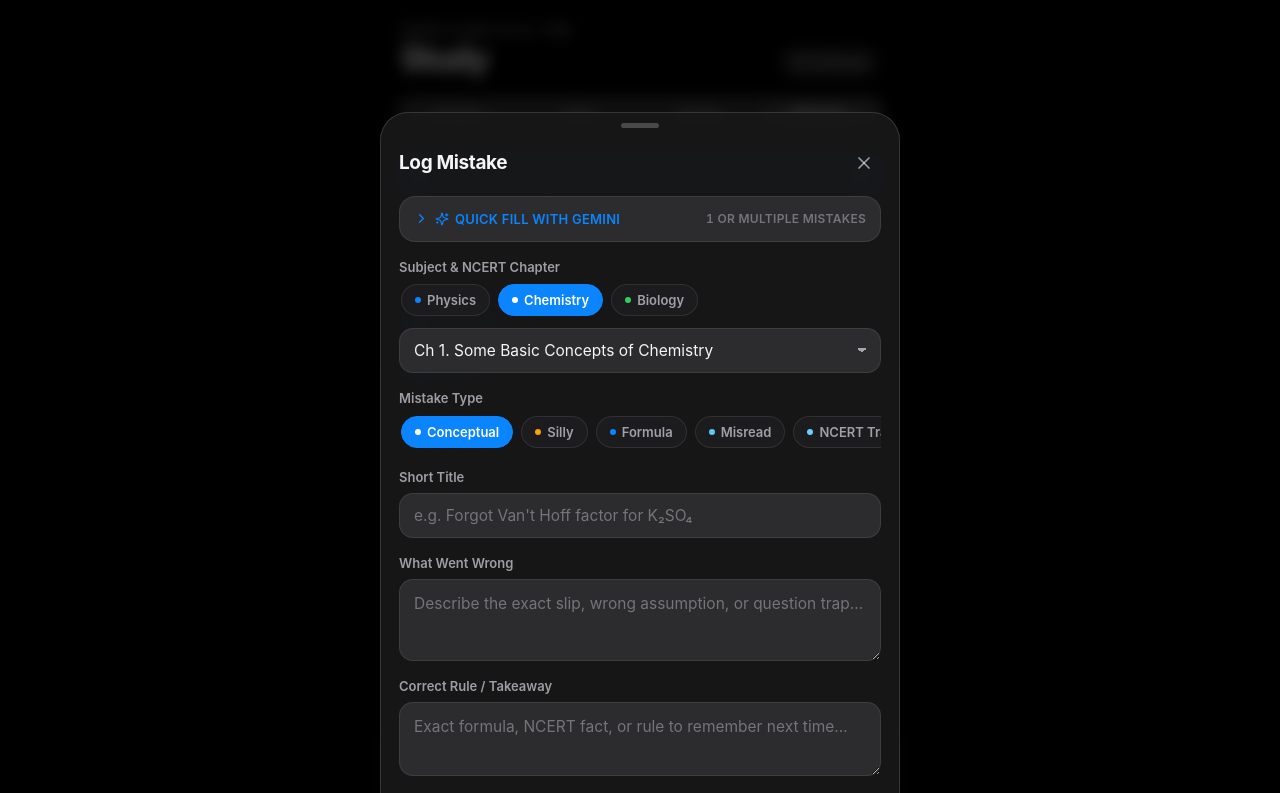
Test: Study Hub, NCERT Chapters, PYQs & Doubts end-to-end flows › displays chapter shortcuts with singular/plural counts in ChapterDetailSheet and navigates cleanly
The image size is (1280, 793).
Earlier steps of the test are not shown.
Later steps or results of the test are not shown.
Select "Ch 1. Solutions" in the dropdown named "NCERT Chapter" at (640, 351), box x1=399 y1=328 x2=881 y2=373
Type "Forgot Van’t Hoff factor" into the field labelled "Short Title" at (640, 516), box x1=399 y1=493 x2=881 y2=538
(page scrolled)
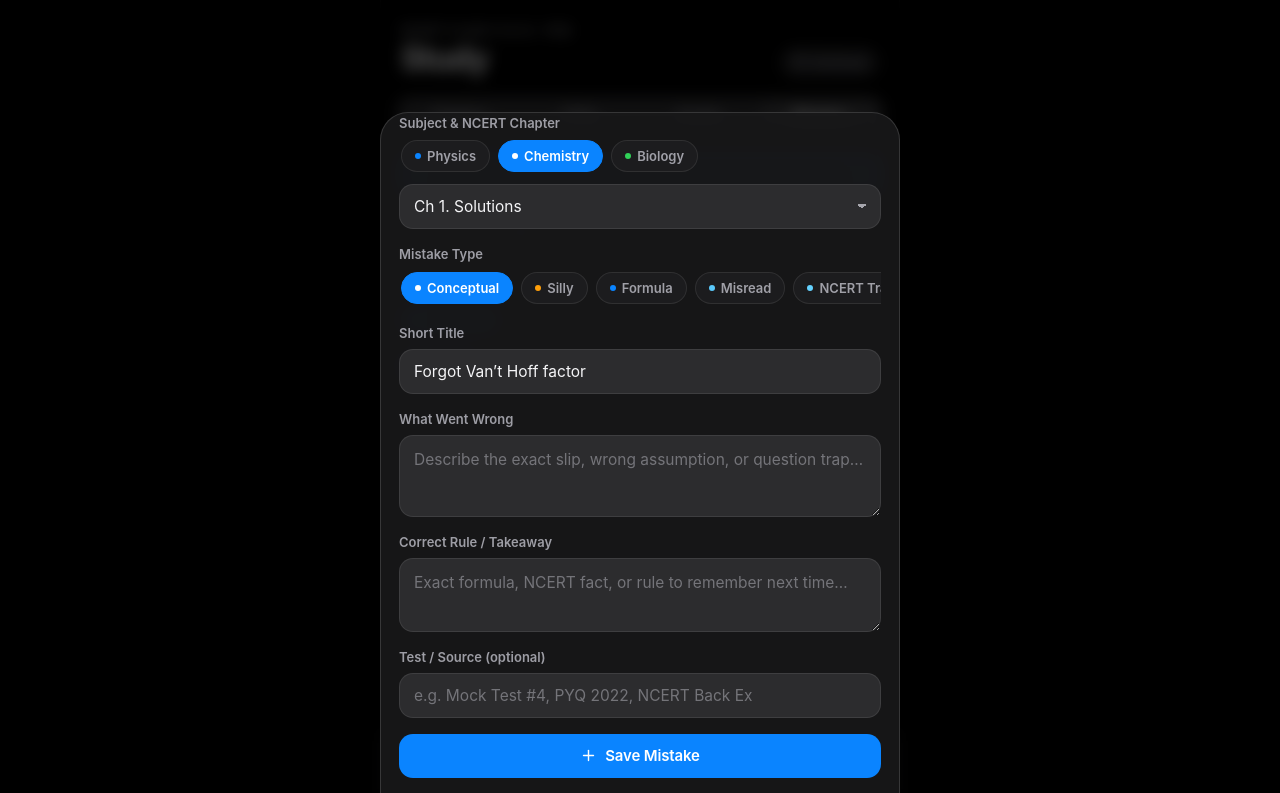
Click the button "Save Mistake" at (640, 756), box x1=399 y1=734 x2=881 y2=778
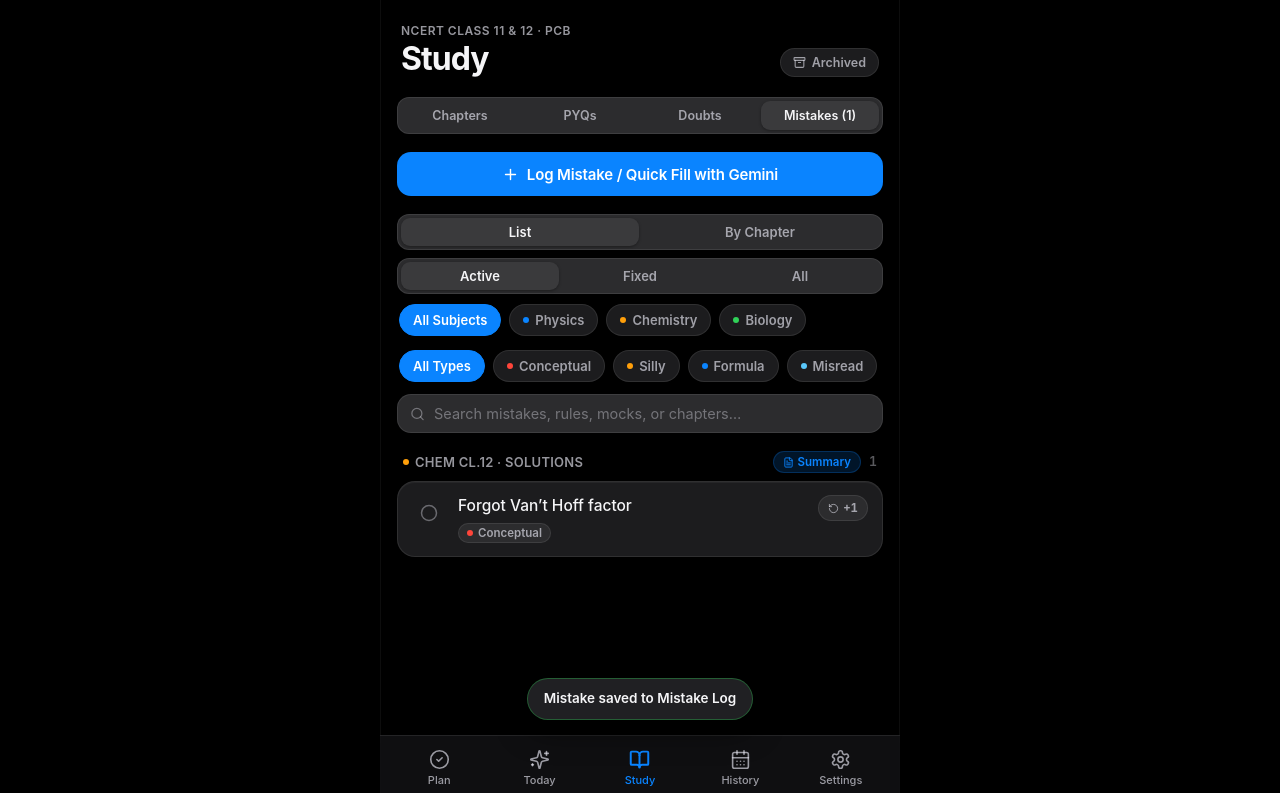
Click the tab "Chapters" at (460, 116), box x1=401 y1=101 x2=519 y2=130
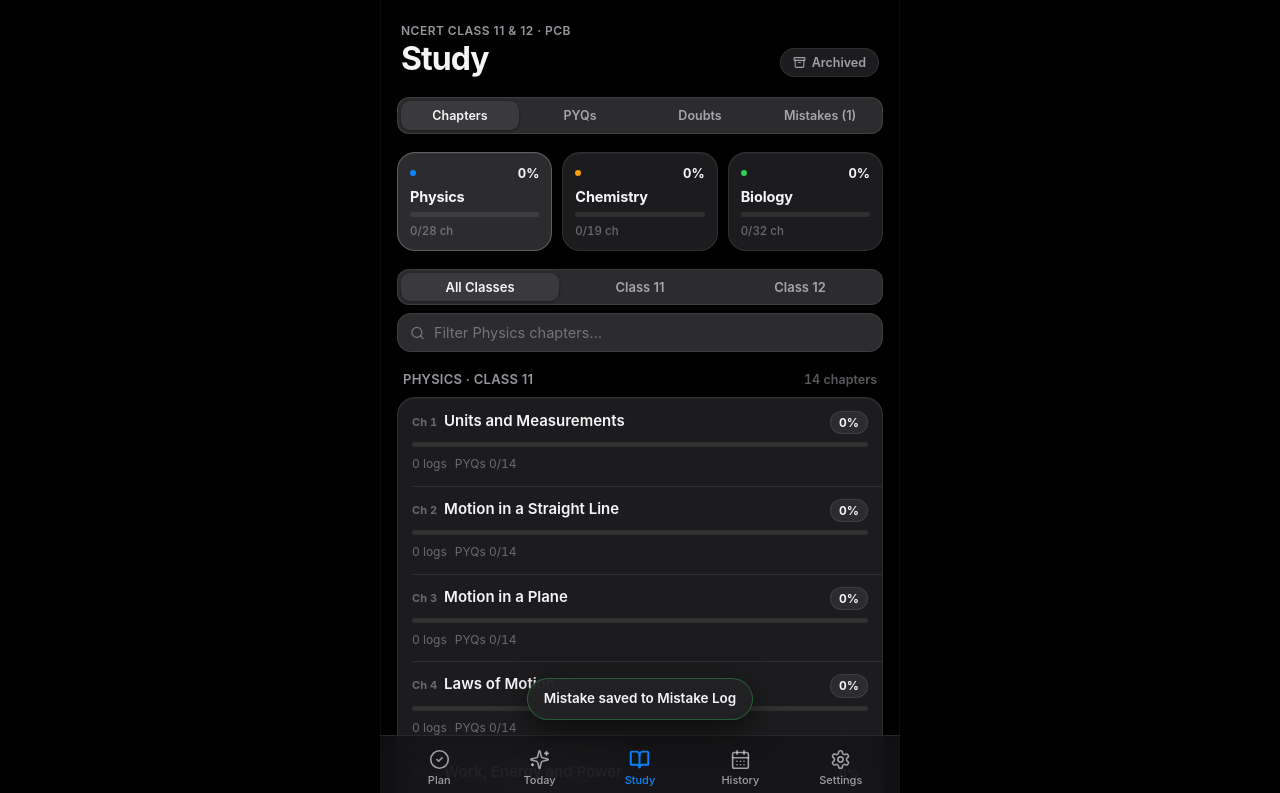
Click the tab "0% Chemistry 0/19 ch" at (640, 202), box x1=562 y1=152 x2=718 y2=251
(page scrolled)
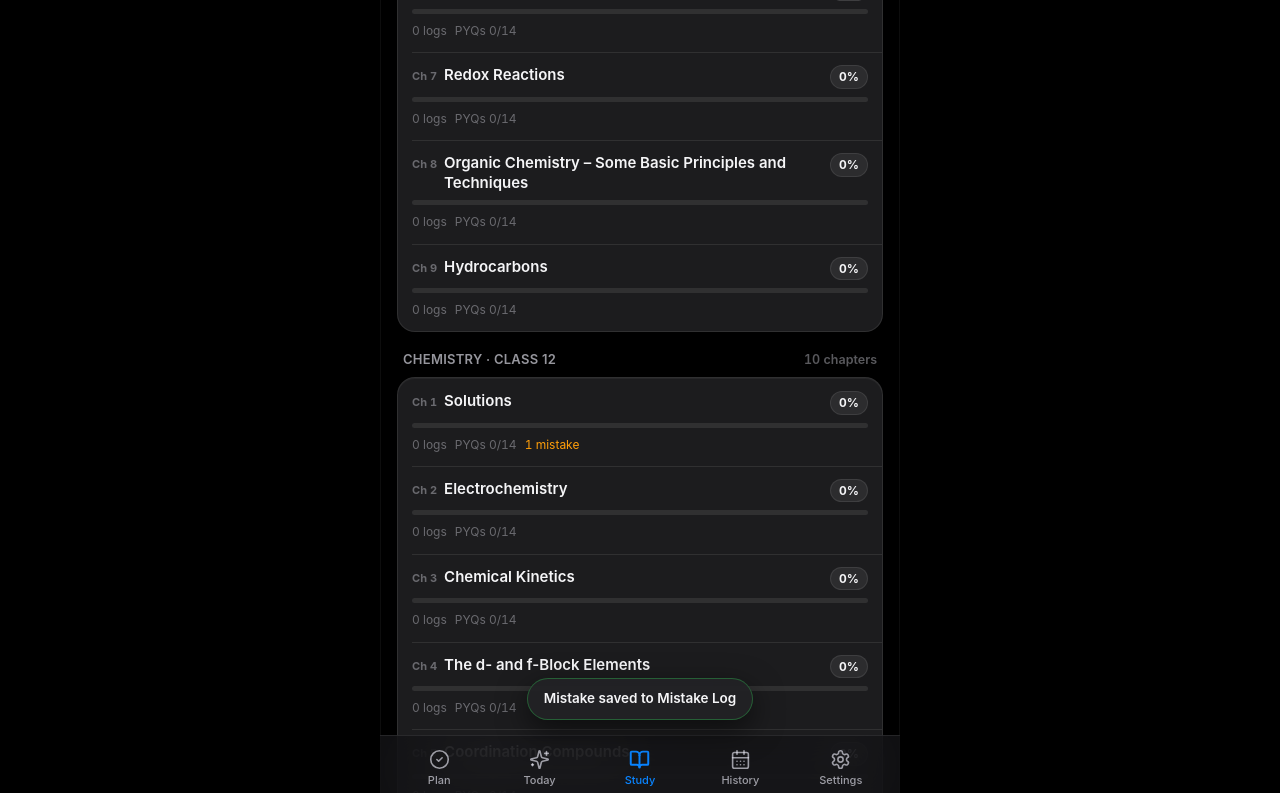
Click the text "Solutions" at (478, 401), box x1=444 y1=391 x2=512 y2=411
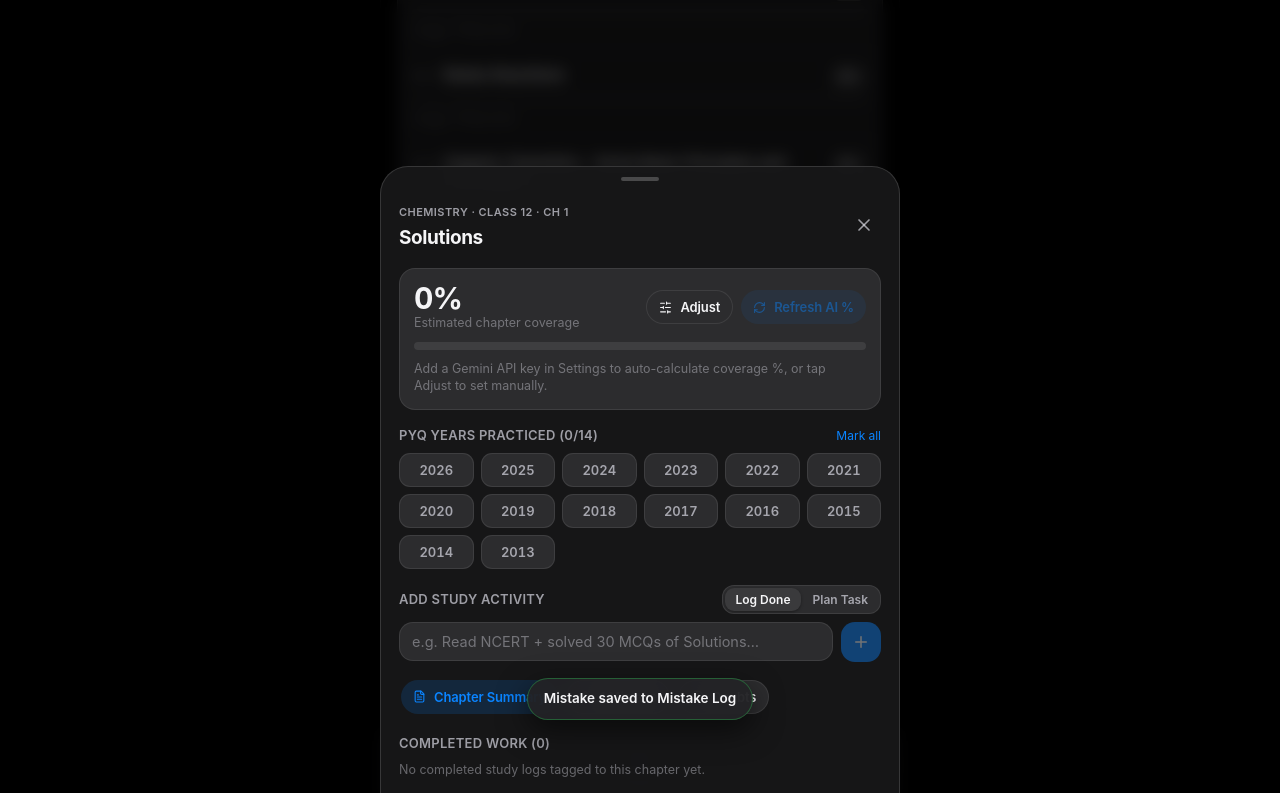
Expected: the button "Chapter Summary" is shown, x1=401 y1=680 x2=558 y2=714
Expected: the button "Doubts" is shown, x1=678 y1=680 x2=769 y2=714
Click the button "1 Mistake" at (618, 697), box x1=566 y1=680 x2=670 y2=714
(page scrolled)
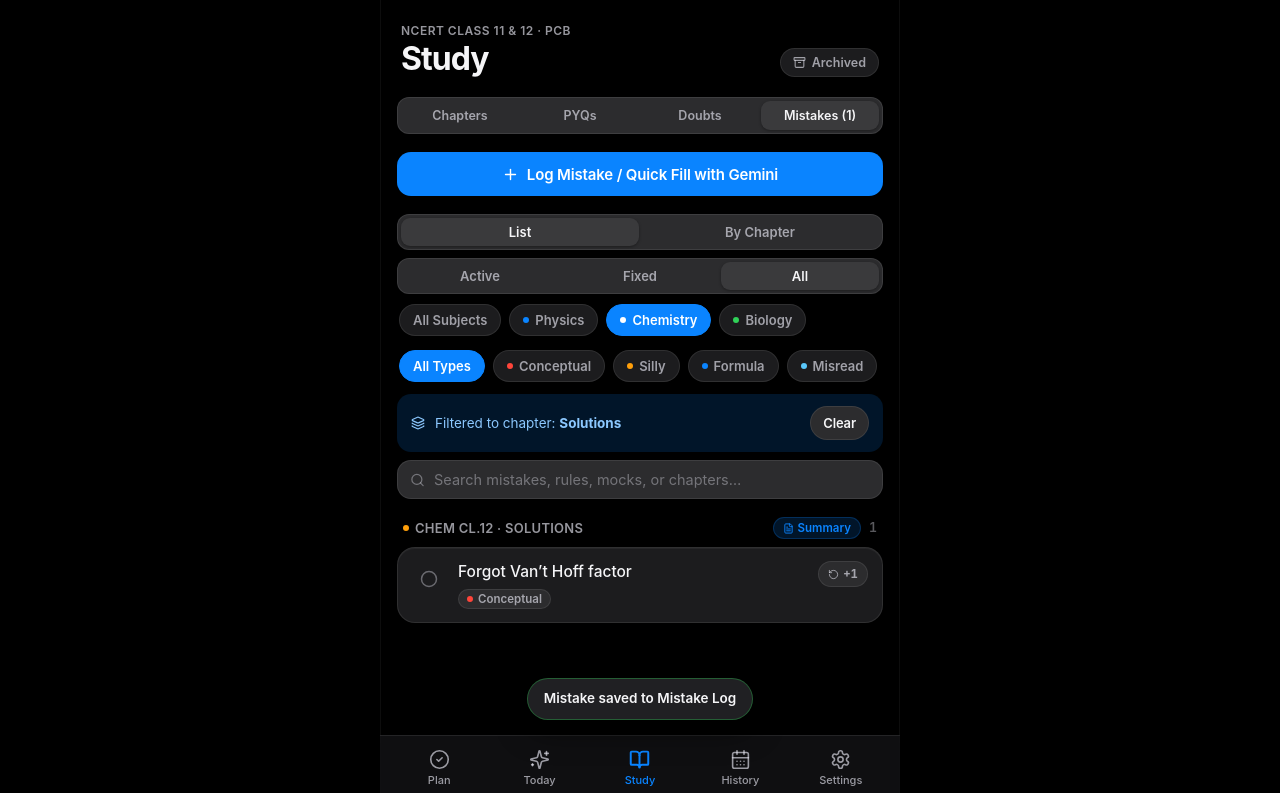
Expected: the text "Forgot Van’t Hoff factor" is shown, x1=458 y1=562 x2=632 y2=581
